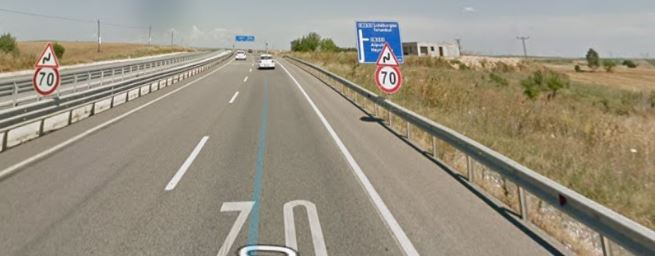70 Km Hiz Siniri: (373, 62, 406, 91), (33, 69, 63, 94)
